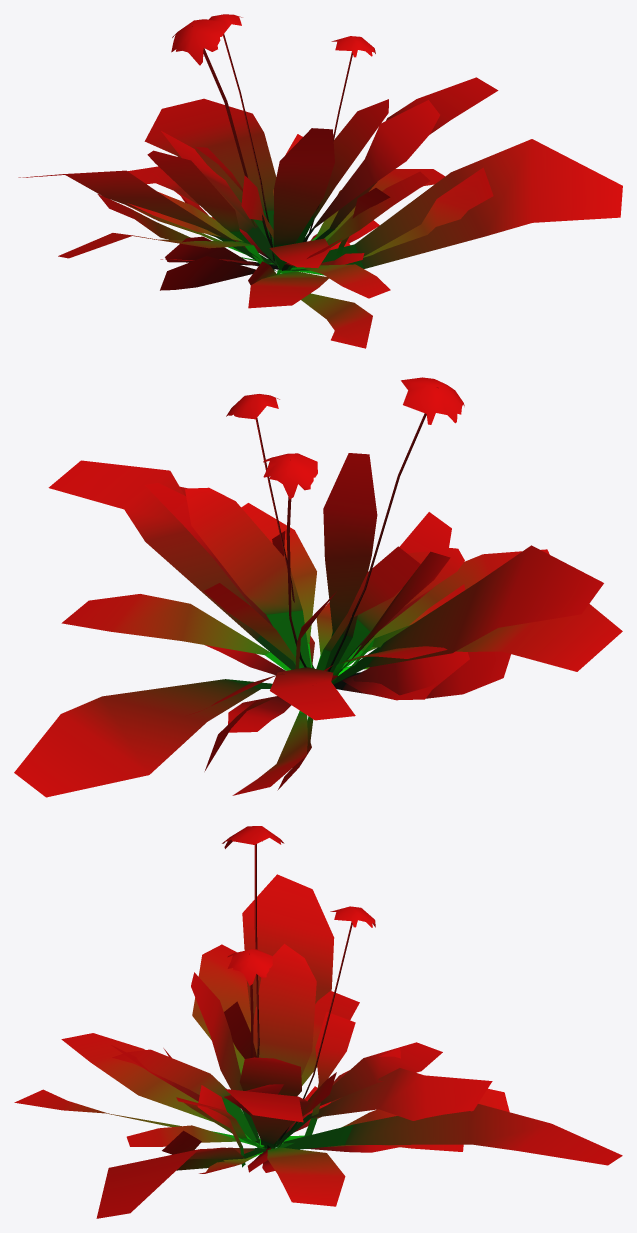
File: Var1_LOD1.fbx
The picture shows the model from 3 angles, top to bottom: view 1: azimuth 30°, elevation 25°; view 2: azimuth 150°, elevation 25°; view 3: azimuth 270°, elevation 25°; orthographic projection. The views are drawn at different scales.
Visible parts, largest first — view 1: _f2e2_Var1_LOD1; view 2: _f2e2_Var1_LOD1; view 3: _f2e2_Var1_LOD1.
Part boxes in pixels (left/top/right/bottom): _f2e2_Var1_LOD1: left=18, top=14, right=622, bottom=348; _f2e2_Var1_LOD1: left=14, top=377, right=622, bottom=797; _f2e2_Var1_LOD1: left=14, top=826, right=622, bottom=1218.
Bounding box in the file's own units: 45.01 × 23.2 × 45.22.
